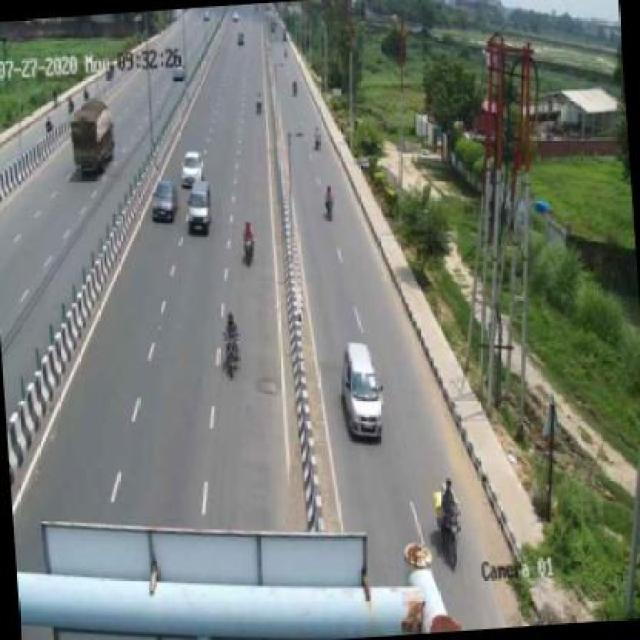car: (337, 330, 392, 448), (183, 180, 219, 235), (150, 178, 178, 224), (178, 151, 204, 189)
